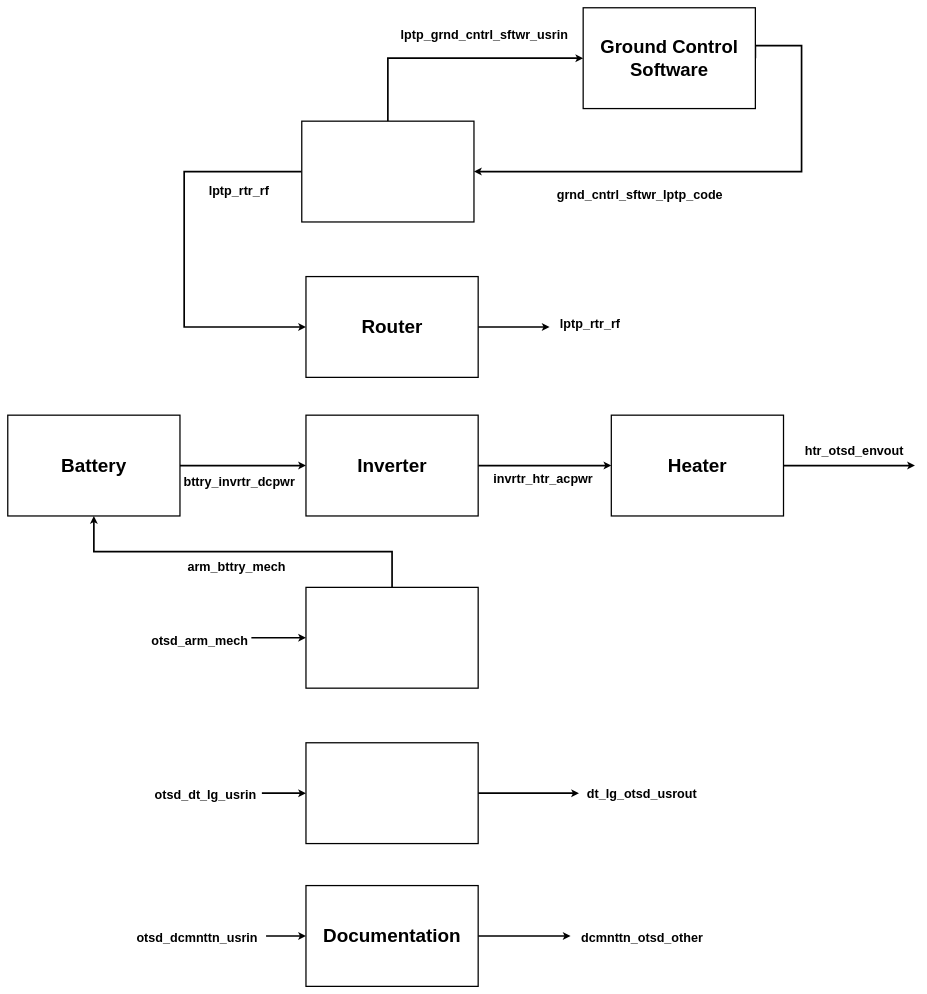
Some shapes in this 927 by 994 pixel diagram are drawn without their labels. Here are the shapes that lost their labels. From the top down, the centre of each, then its label:
pixel 387 171: Laptop
pixel 392 638: Arm
pixel 392 793: System Log
